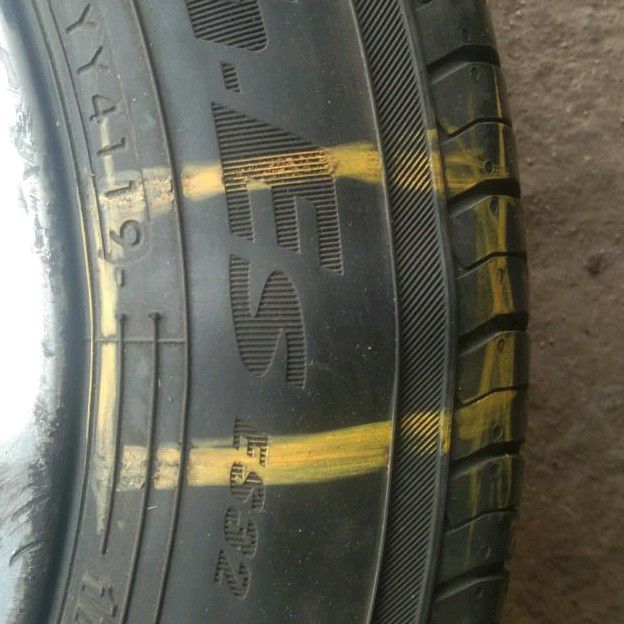CBU: (154, 204, 365, 420)
